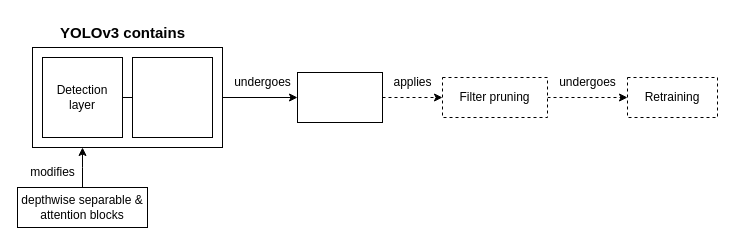
This 735x245 diagram has some shape labels left out. Each missing label, with the centre of its shape:
Prediction layer: (x=172, y=97)
Training: (x=339, y=97)
